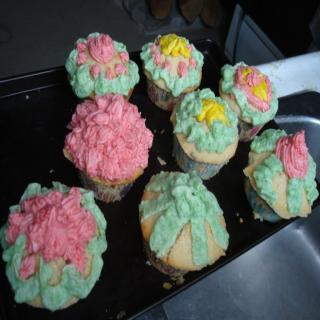Cake: (0, 182, 108, 310), (64, 90, 152, 204), (140, 171, 228, 277), (246, 124, 318, 216), (170, 88, 240, 180), (137, 32, 210, 108), (217, 57, 278, 142), (68, 32, 141, 100)
Muffin: (0, 29, 320, 314)
